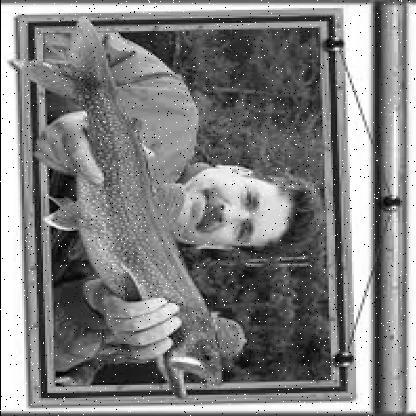fish: (19, 18, 235, 399)
